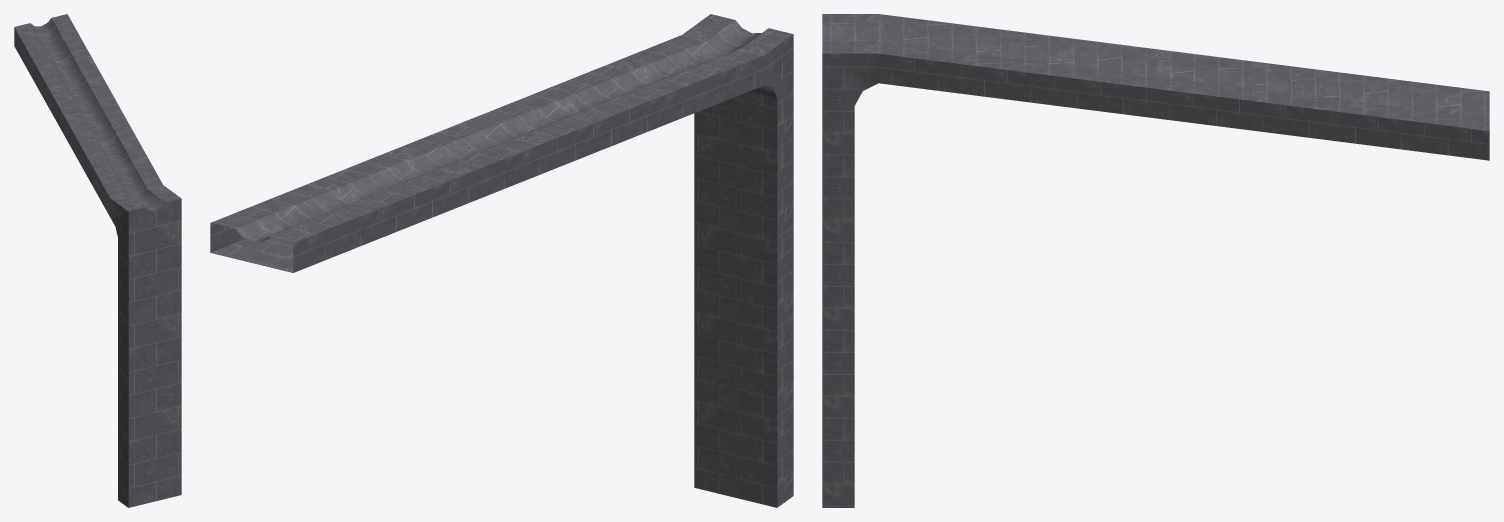
The model's file is Aquaduct_2_002.fbx.
The picture shows the model from 3 angles, left to right: view 1: azimuth 30°, elevation 25°; view 2: azimuth 150°, elevation 25°; view 3: azimuth 270°, elevation 25°; orthographic projection. The views are drawn at different scales.
Visible parts, largest first — view 1: Aquaduct_2_001:Aquaduct_2_001; view 2: Aquaduct_2_001:Aquaduct_2_001; view 3: Aquaduct_2_001:Aquaduct_2_001.
Boxes of the visible parts, x1=… form: Aquaduct_2_001:Aquaduct_2_001: x1=14, y1=14, x2=181, y2=507; Aquaduct_2_001:Aquaduct_2_001: x1=210, y1=14, x2=793, y2=507; Aquaduct_2_001:Aquaduct_2_001: x1=822, y1=14, x2=1489, y2=507.
Bounding box in the file's own units: 863 × 1560 × 2076.
